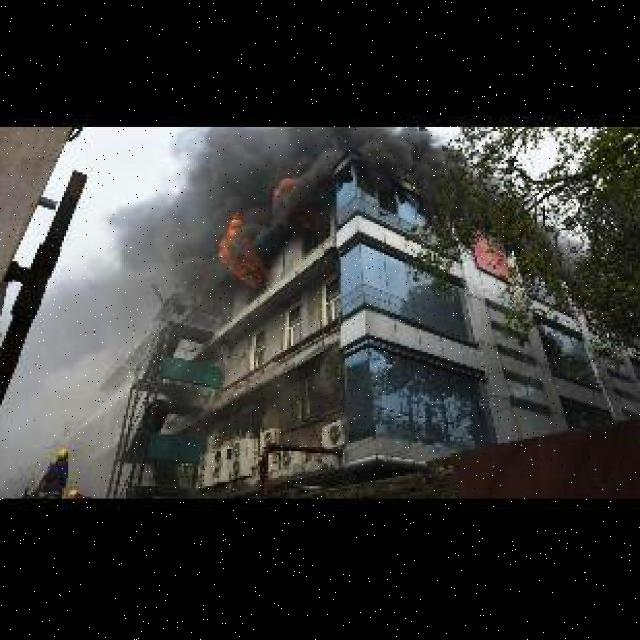fire: (215, 212, 266, 292)
smoke: (186, 127, 475, 210), (76, 193, 219, 329)
